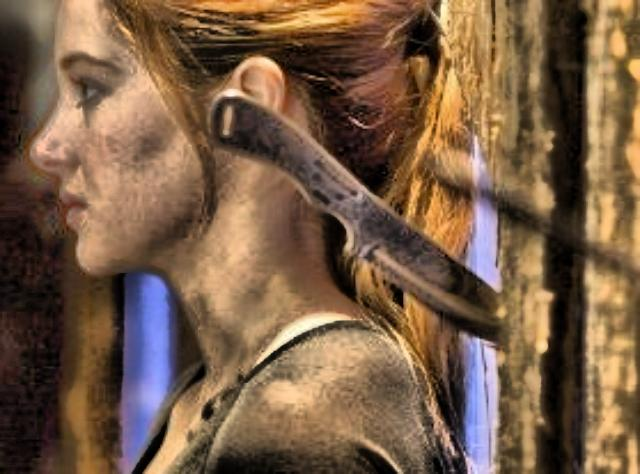knife: (200, 76, 514, 358)
